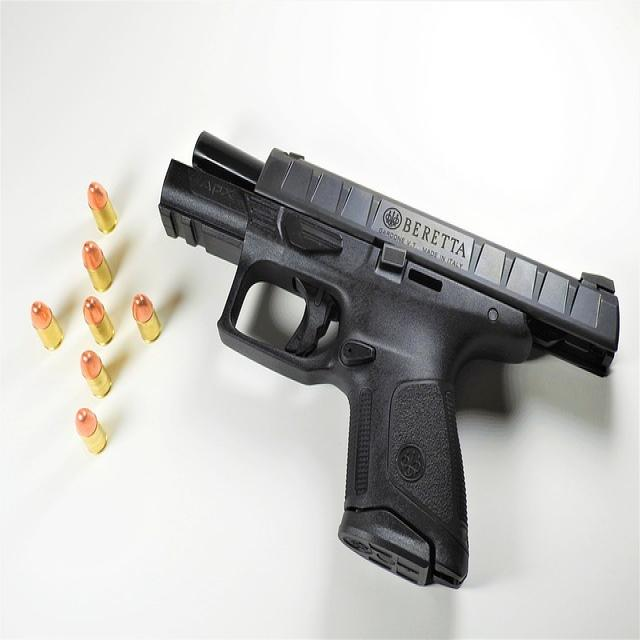HandGun: (149, 119, 627, 606)
